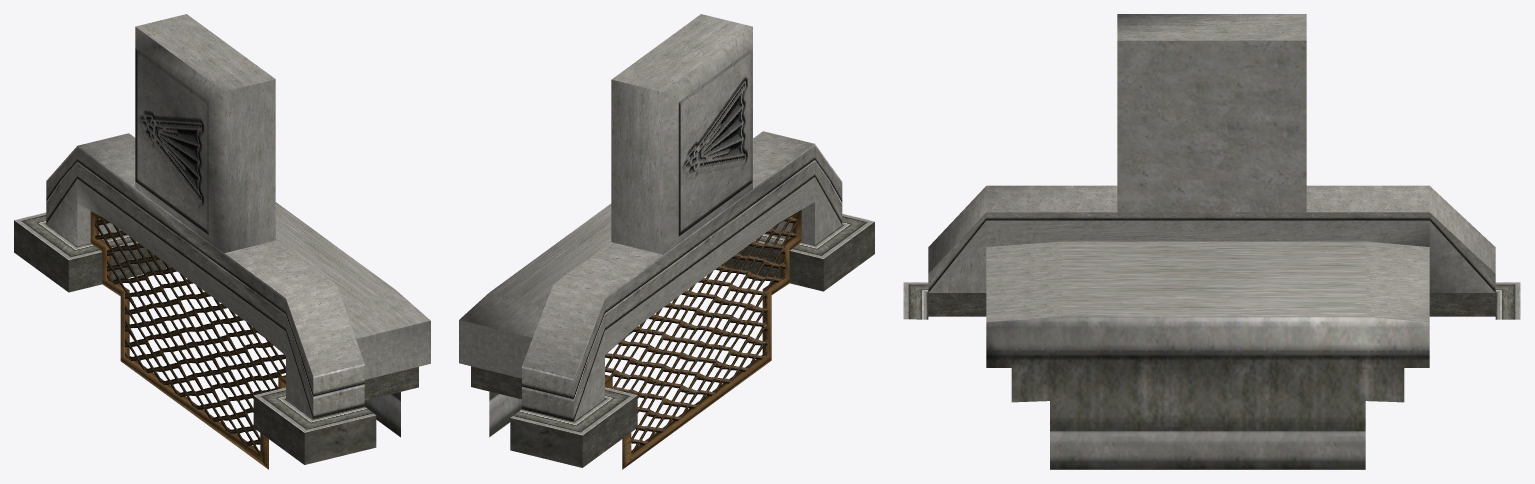
Rendered from WATERROOM_CANAL_BILLOWS_WATERROOM_CANAL_BILLOWS.fbx.
The picture shows the model from 3 angles, left to right: view 1: azimuth 30°, elevation 25°; view 2: azimuth 150°, elevation 25°; view 3: azimuth 270°, elevation 25°; orthographic projection. The views are drawn at different scales.
Visible parts, largest first — view 1: WATERROOM_CANAL_BILLOWS_WATERROOM_CANAL_BILLOWS; view 2: WATERROOM_CANAL_BILLOWS_WATERROOM_CANAL_BILLOWS; view 3: WATERROOM_CANAL_BILLOWS_WATERROOM_CANAL_BILLOWS.
Boxes of the visible parts, <box> form: WATERROOM_CANAL_BILLOWS_WATERROOM_CANAL_BILLOWS: <box>14,14,430,469</box>; WATERROOM_CANAL_BILLOWS_WATERROOM_CANAL_BILLOWS: <box>459,14,874,469</box>; WATERROOM_CANAL_BILLOWS_WATERROOM_CANAL_BILLOWS: <box>903,14,1520,469</box>.
Size of the model in its own units: 16097 by 33273 by 48907.
7 materials, 7 textured.
